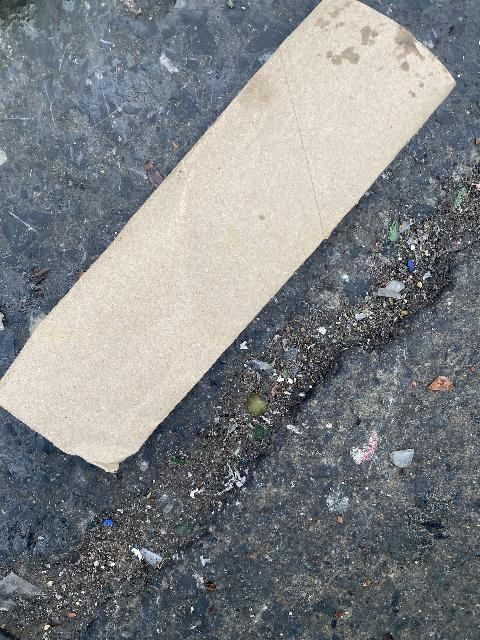Kagit: (0, 1, 457, 475)
